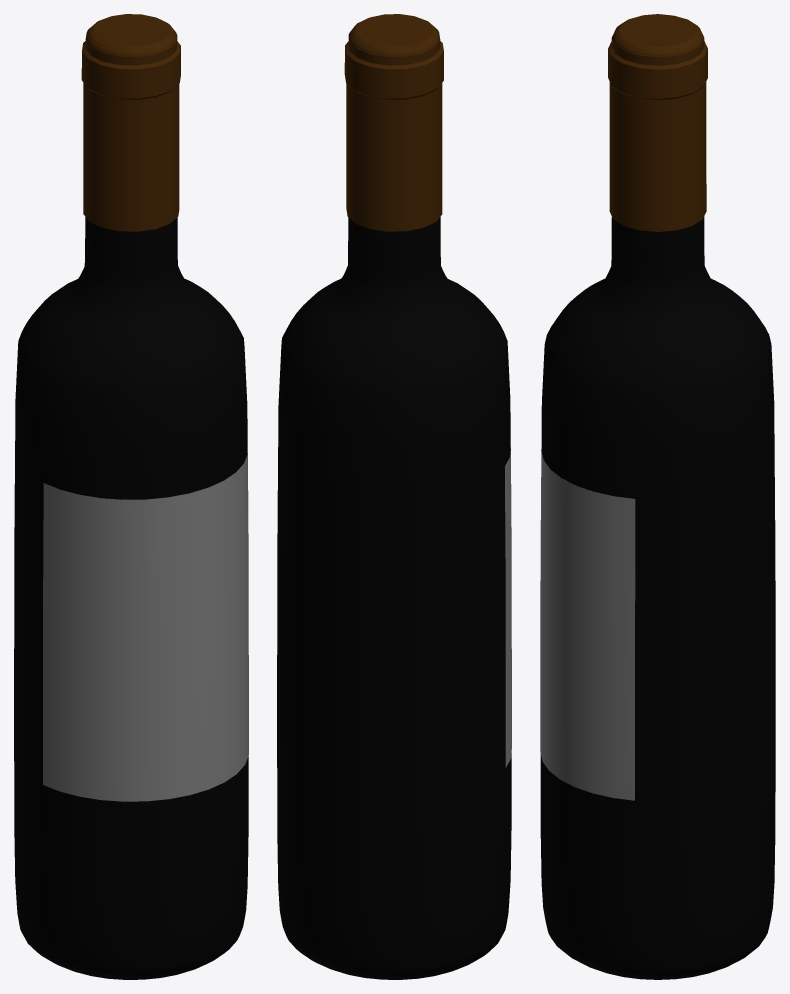
Rendered from Wino.FBX.
The picture shows the model from 3 angles, left to right: view 1: azimuth 30°, elevation 25°; view 2: azimuth 150°, elevation 25°; view 3: azimuth 270°, elevation 25°; orthographic projection.
Visible parts, largest first — view 1: Glass bottle, Logo, Line002; view 2: Glass bottle, Line002, Logo; view 3: Glass bottle, Logo, Line002.
Part boxes in pixels (box(x1,y1,x2,y2)): Glass bottle: box(14, 217, 248, 979); Logo: box(43, 453, 248, 801); Line002: box(81, 14, 180, 231); Glass bottle: box(277, 217, 511, 979); Line002: box(344, 14, 443, 231); Logo: box(505, 447, 511, 767); Glass bottle: box(540, 217, 775, 979); Logo: box(540, 451, 635, 800); Line002: box(608, 14, 707, 231).
Bounding box in the file's own units: 204 × 875 × 204.
